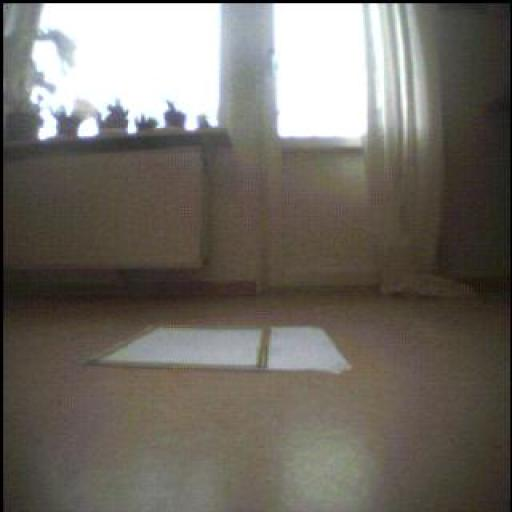Pad: (89, 327, 351, 374)
